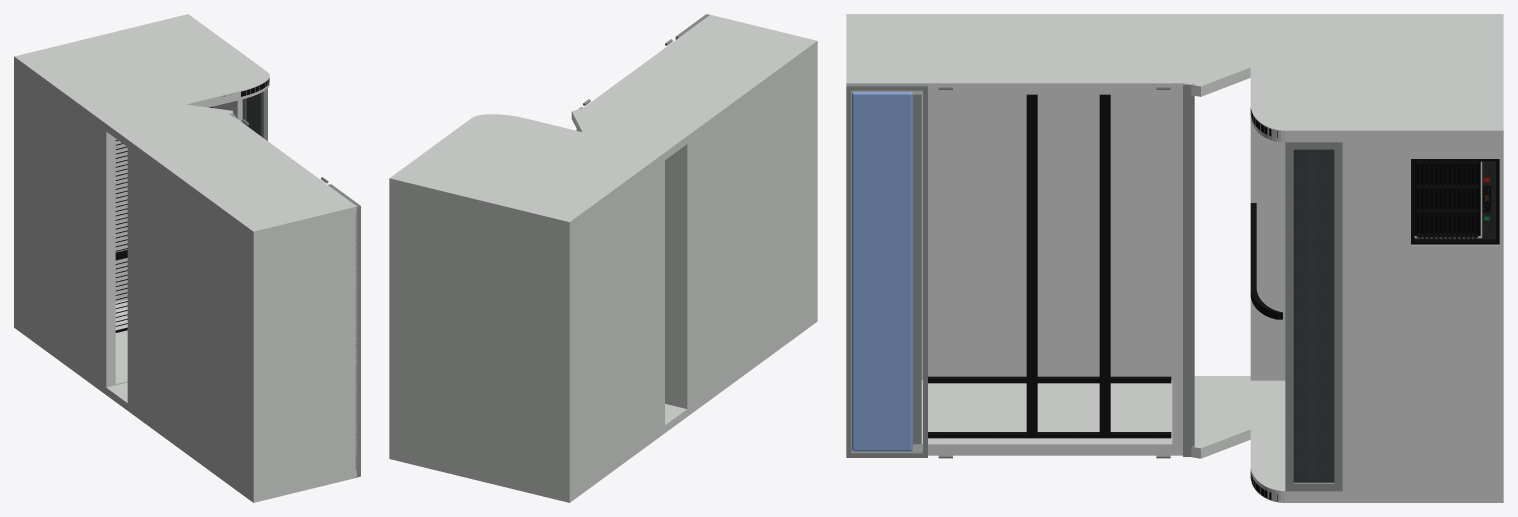
3 renders of one model, left to right at view 1: azimuth 30°, elevation 25°; view 2: azimuth 150°, elevation 25°; view 3: azimuth 270°, elevation 25°, orthographic. The views are drawn at different scales.
Visible parts, largest first — view 1: __articraft_commit_0000_0002, __articraft_commit_0000_0000, __articraft_commit_0000_0001, __articraft_commit_0000_0003, __articraft_commit_0000_0005, __articraft_commit_0000_0006; view 2: __articraft_commit_0000_0000, __articraft_commit_0000_0002, __articraft_commit_0000_0001; view 3: __articraft_commit_0000_0002, __articraft_commit_0000_0000, __articraft_commit_0000_0003, __articraft_commit_0000_0005, __articraft_commit_0000_0001, __articraft_commit_0000_0004, __articraft_commit_0000_0007, __articraft_commit_0000_0009, __articraft_commit_0000_0008.
Boxes of the visible parts, x1,y1,x2,y2 form: __articraft_commit_0000_0002: [130, 116, 357, 502]; __articraft_commit_0000_0000: [14, 14, 269, 394]; __articraft_commit_0000_0001: [106, 104, 236, 412]; __articraft_commit_0000_0003: [328, 184, 360, 477]; __articraft_commit_0000_0005: [242, 88, 267, 140]; __articraft_commit_0000_0006: [115, 140, 127, 332]; __articraft_commit_0000_0000: [389, 114, 664, 502]; __articraft_commit_0000_0002: [583, 15, 817, 414]; __articraft_commit_0000_0001: [571, 107, 690, 432]; __articraft_commit_0000_0002: [846, 14, 1183, 455]; __articraft_commit_0000_0000: [1250, 14, 1503, 502]; __articraft_commit_0000_0003: [846, 83, 927, 457]; __articraft_commit_0000_0005: [1285, 142, 1342, 491]; __articraft_commit_0000_0001: [1183, 14, 1250, 458]; __articraft_commit_0000_0004: [928, 94, 1171, 438]; __articraft_commit_0000_0007: [1411, 159, 1499, 244]; __articraft_commit_0000_0009: [1250, 108, 1282, 501]; __articraft_commit_0000_0008: [1482, 161, 1495, 239].
Size of the model in its own units: 0.8405 by 1.25 by 2.
7 materials, 2 textured.
